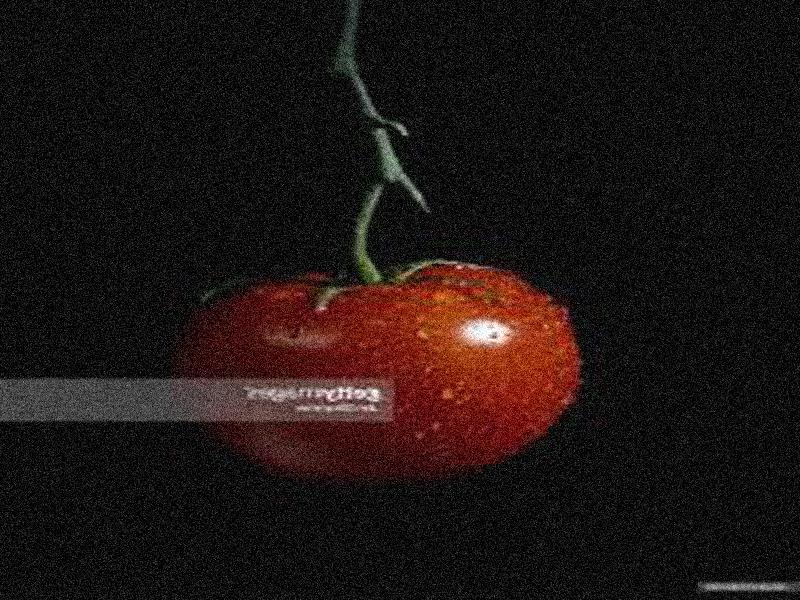Tomato: (188, 266, 578, 474)
